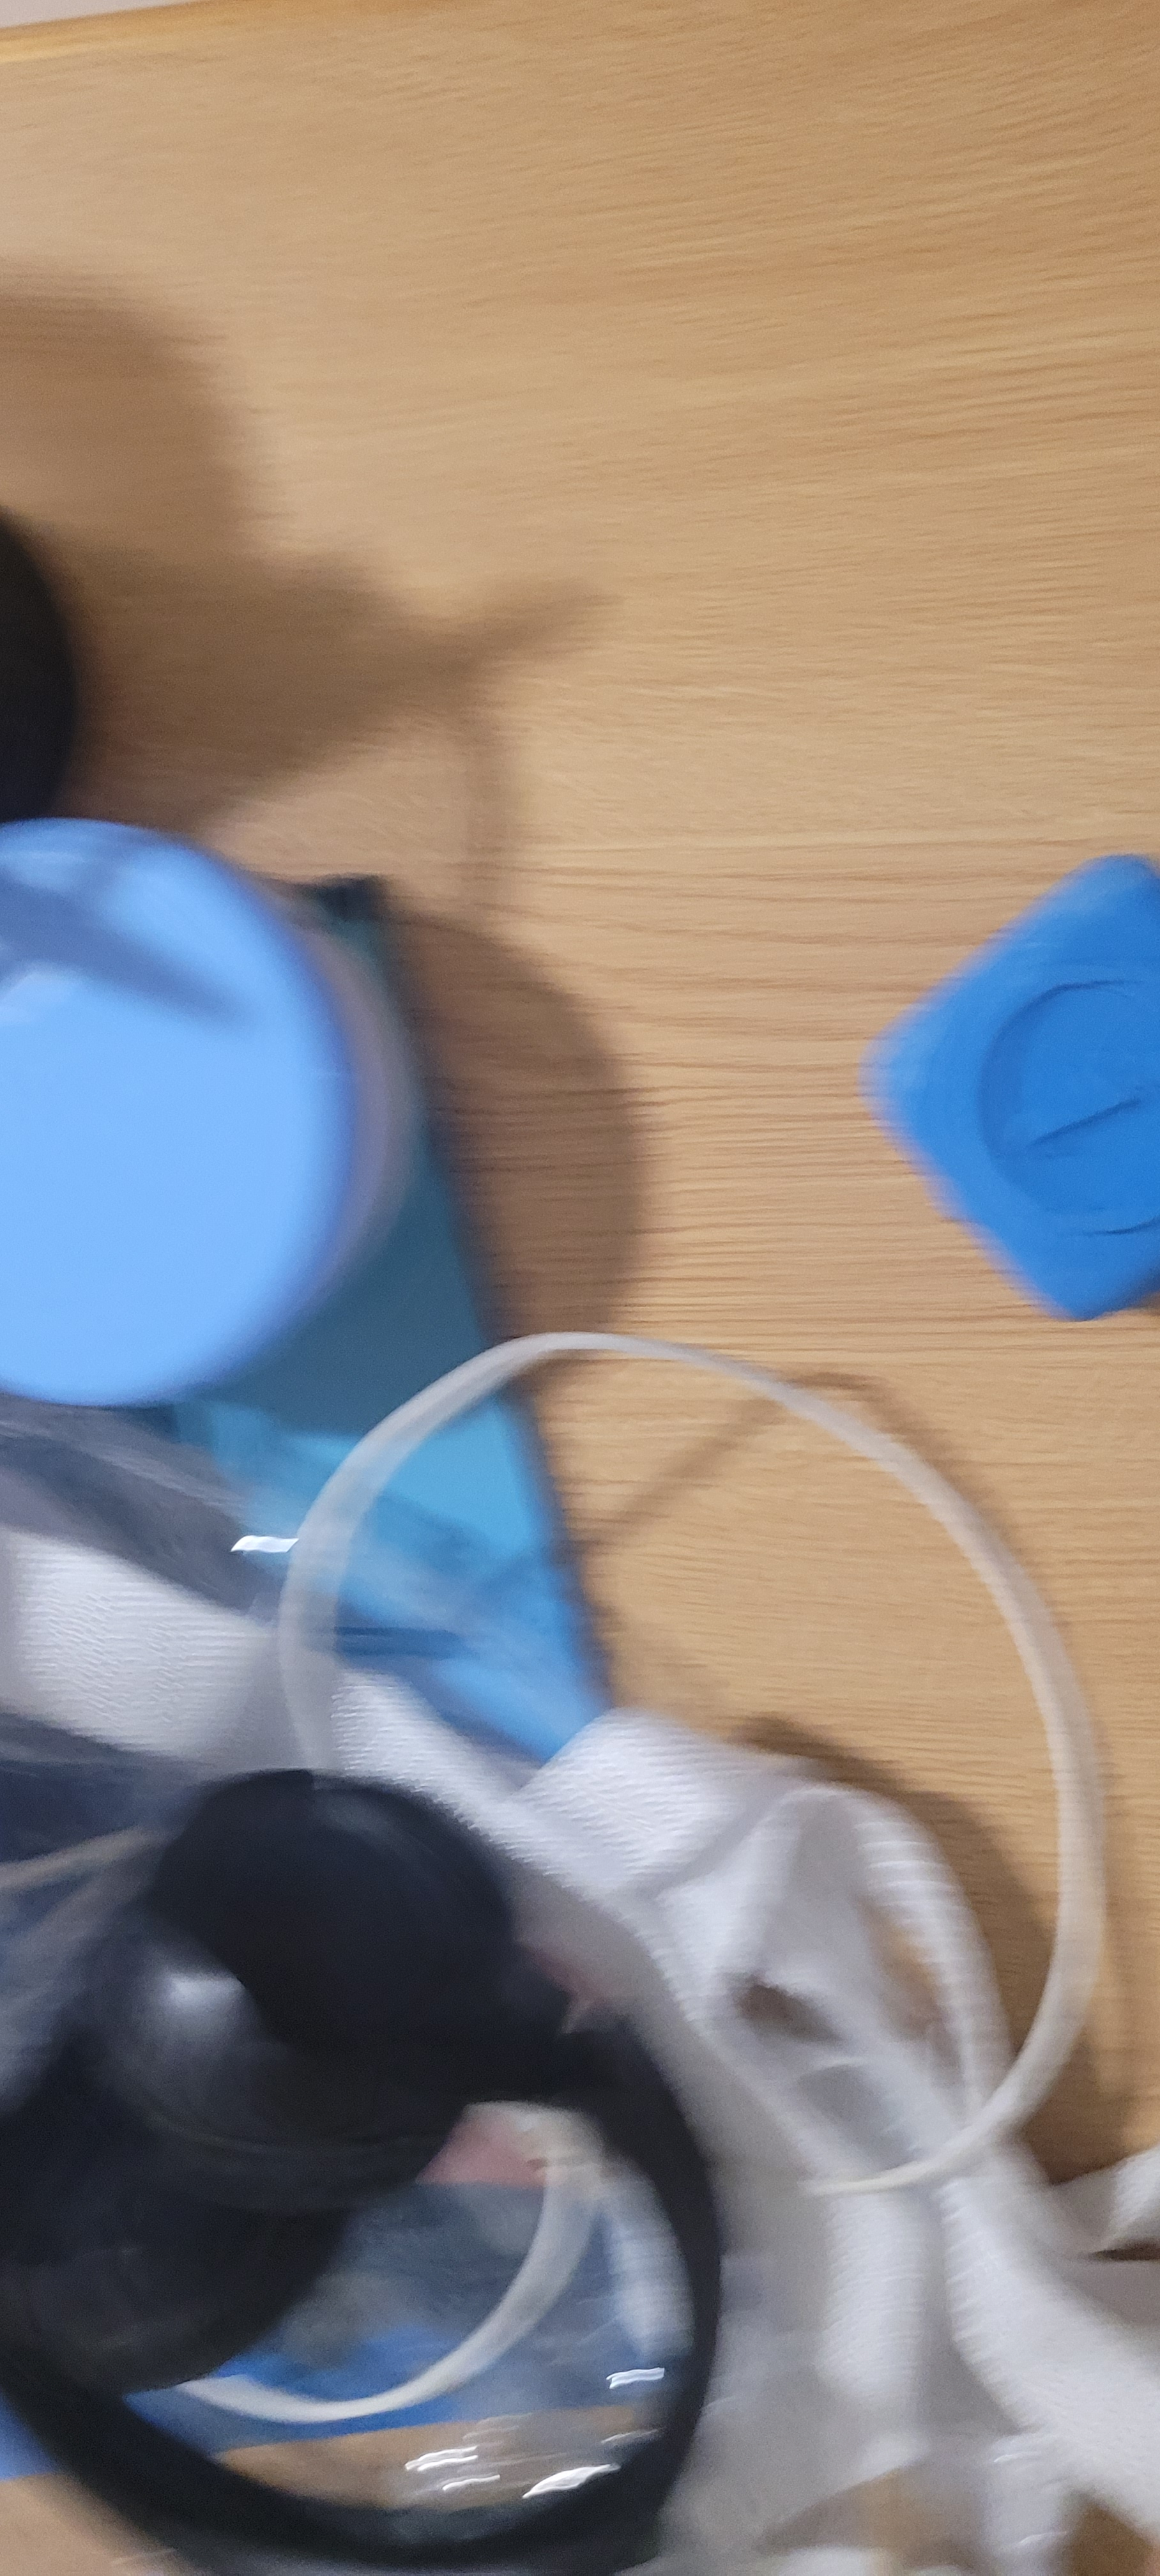Info: (960, 943, 1160, 1281)
